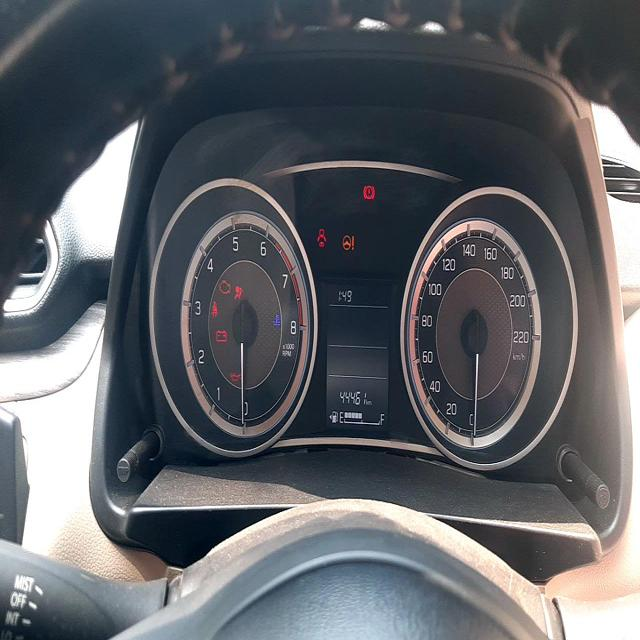odometer: (337, 387, 367, 408)
